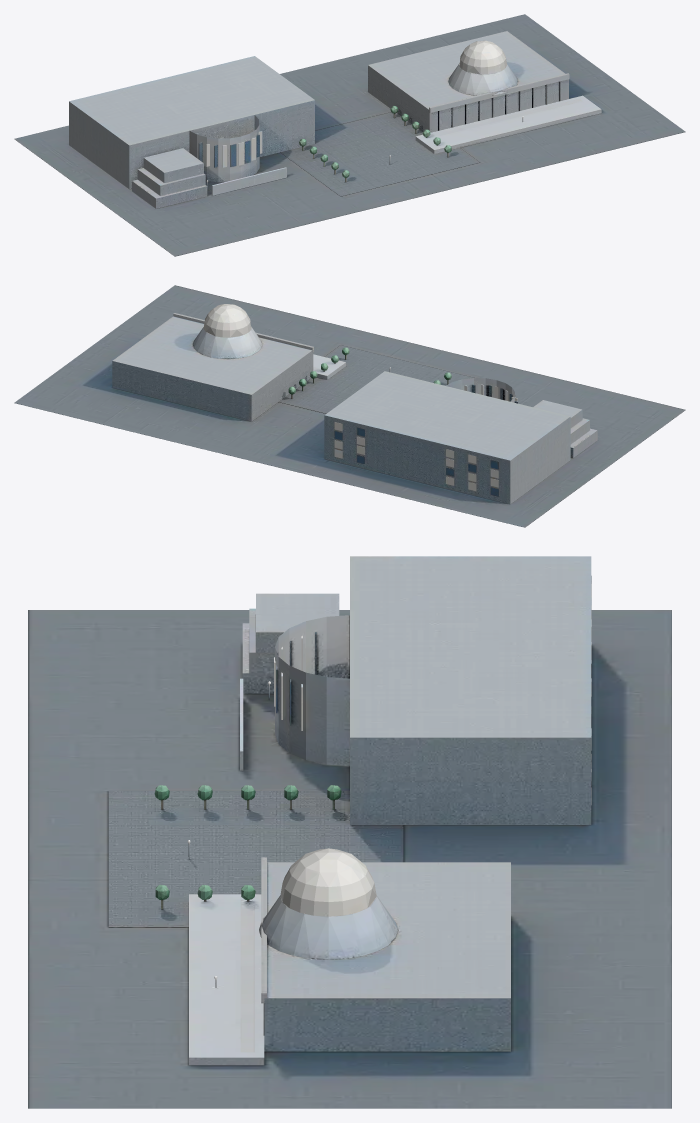
File: tiancheng_univ_court_low.glb
The picture shows the model from 3 angles, top to bottom: view 1: azimuth 30°, elevation 25°; view 2: azimuth 150°, elevation 25°; view 3: azimuth 270°, elevation 25°; orthographic projection. The views are drawn at different scales.
Parts seen in each view (by area): view 1: site_ground, props_univ, props_court, props_plaza; view 2: site_ground, props_univ, props_court, props_plaza; view 3: site_ground, props_univ, props_court, props_plaza.
Boxes of the visible parts, x1,y1,x2,y2 form: site_ground: (14,14,685,256); props_univ: (69,56,314,208); props_court: (368,31,601,153); props_plaza: (280,106,479,196); site_ground: (14,285,685,527); props_univ: (324,371,597,504); props_court: (112,304,345,421); props_plaza: (279,345,473,413); site_ground: (28,610,671,1108); props_univ: (240,556,591,824); props_court: (189,848,510,1065); props_plaza: (108,785,403,927).
Size of the model in its own units: 220 by 27.06 by 120.
Materials: 5 (5 with a texture image).
